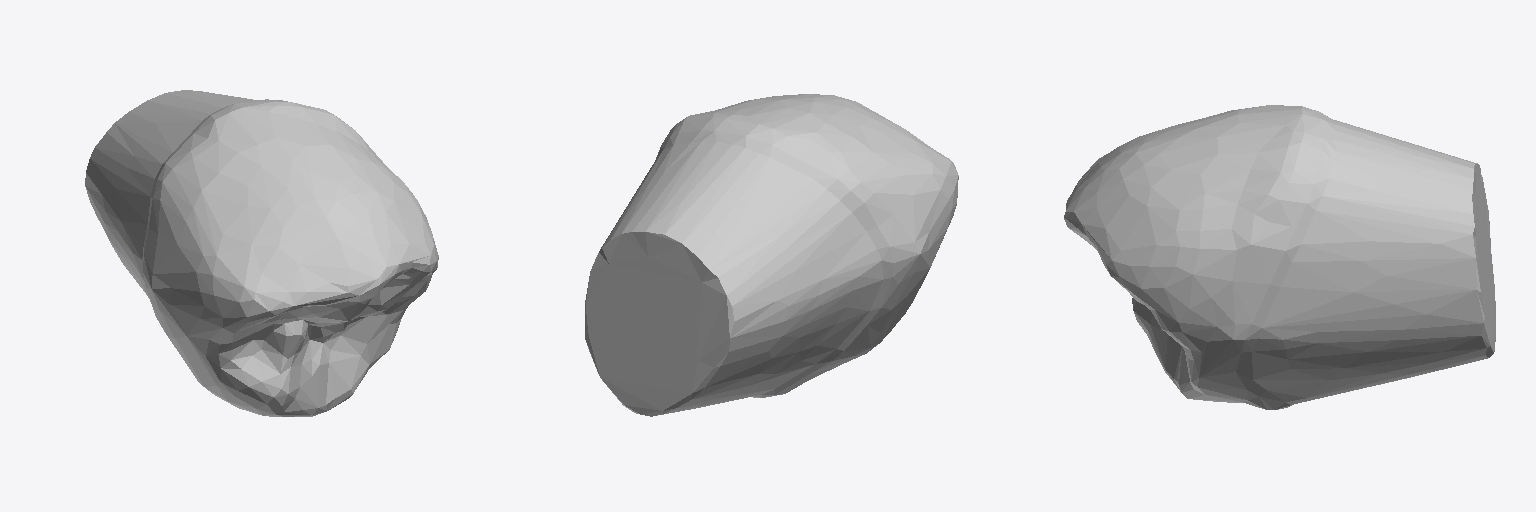
Rendered from local_t44_7780_si.OBJ.
3 renders of one model, left to right at view 1: azimuth 30°, elevation 25°; view 2: azimuth 150°, elevation 25°; view 3: azimuth 270°, elevation 25°, orthographic.
Visible parts, largest first — view 1: Group45870; view 2: Group45870; view 3: Group45870.
Boxes of the visible parts, <box> form: Group45870: <box>85,90,438,416</box>; Group45870: <box>585,94,958,416</box>; Group45870: <box>1064,105,1495,409</box>.
Size of the model in its own units: 7.82 by 8.18 by 11.41.